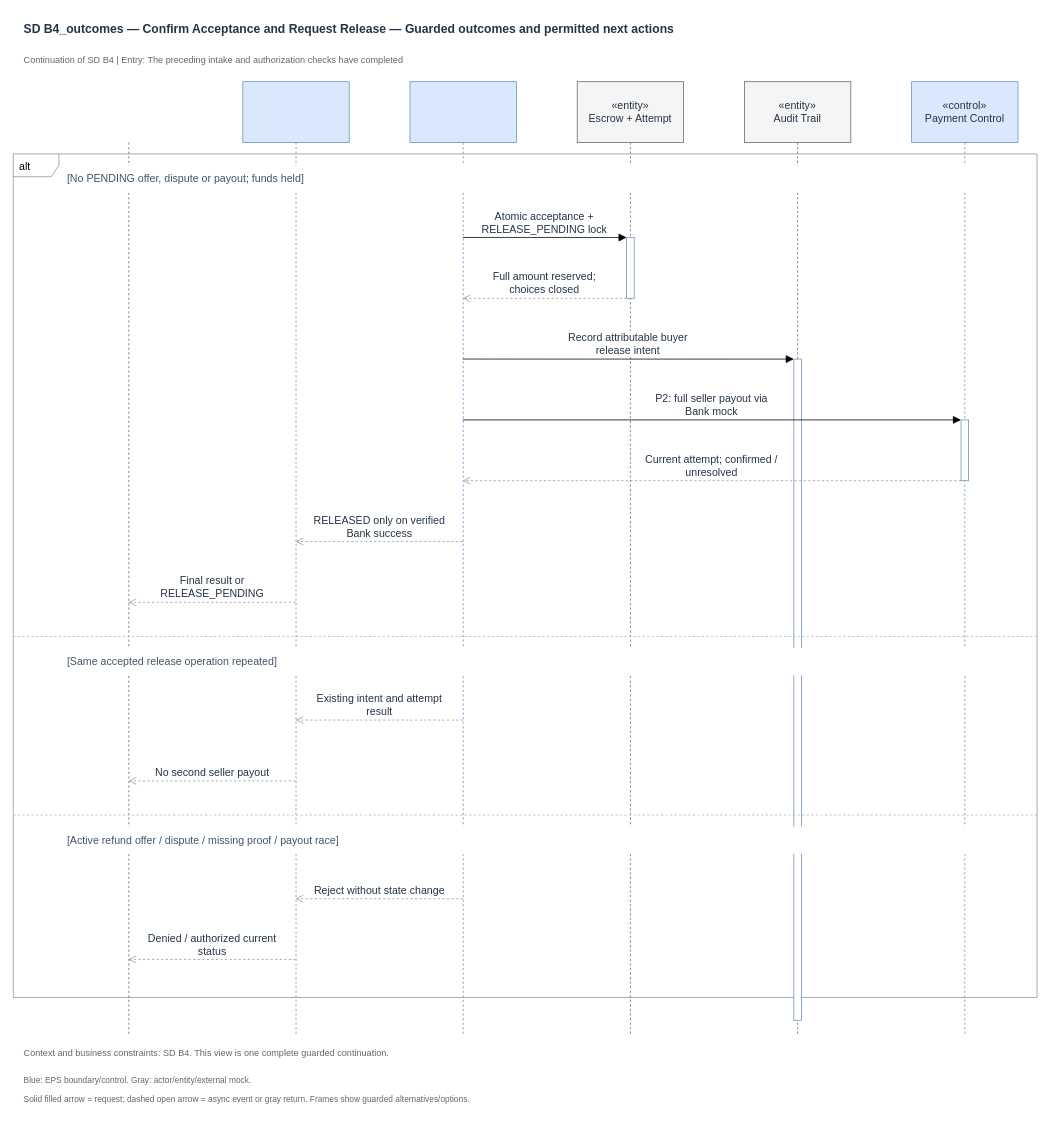
Some shapes in this 1054 by 1123 pixel diagram are drawn without their labels. Here are the shapes that lost their labels. From the top down, the box of each, then its label:
(75, 81, 182, 1036): Buyer
(242, 81, 349, 1036): «boundary» Escrow UI
(409, 81, 516, 1036): «control» Escrow Control
